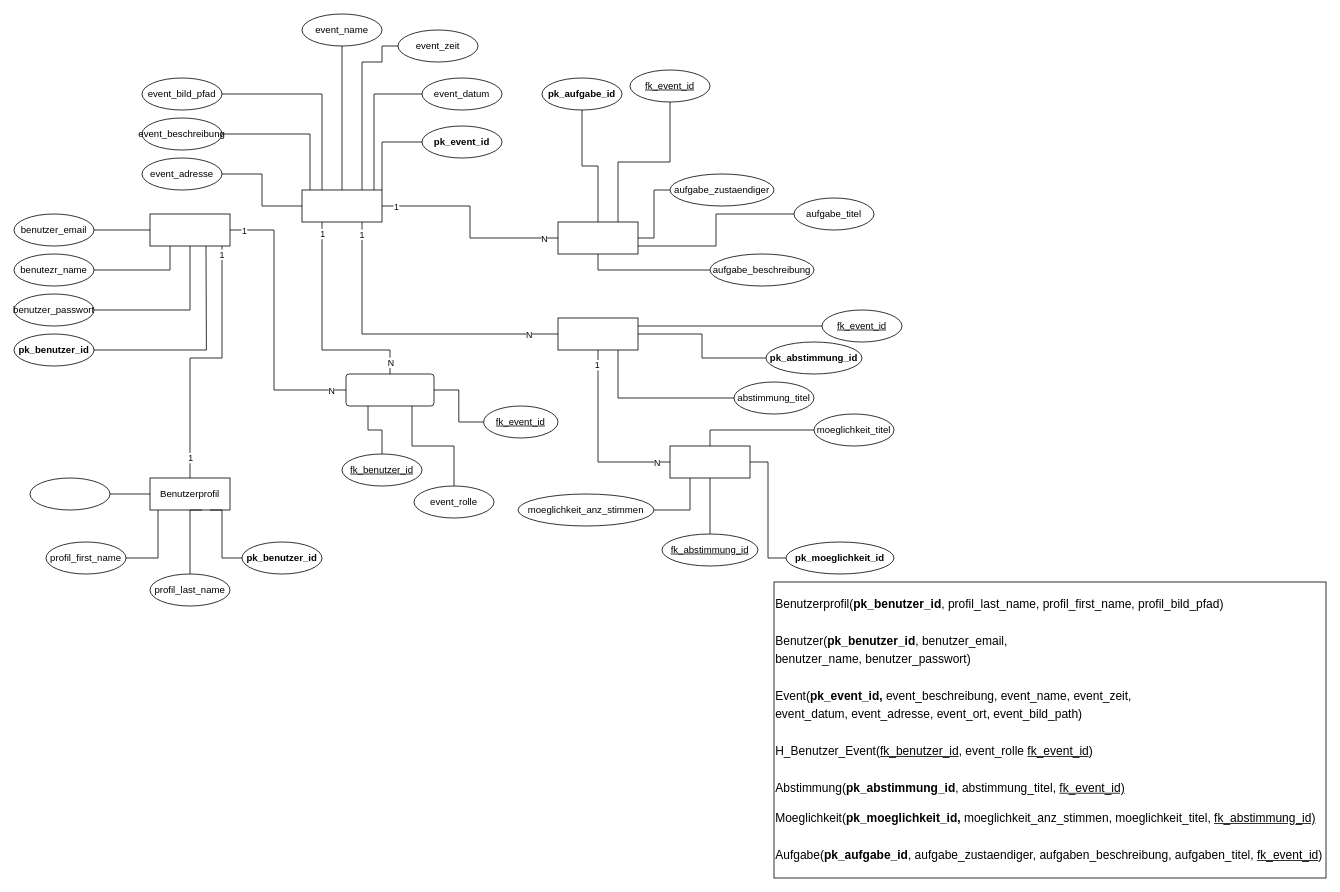
The diagram is 1340 pixels wide and 892 high, and some of its shapes have lost their labels. The centre of each missing label's shape, as x and y in pixels:
"Abstimmung" goes at point (597, 333).
"Aufgabe" goes at point (597, 237).
"Benutzer" goes at point (189, 229).
"Event" goes at point (341, 205).
"H_Benutzer_Event" goes at point (389, 389).
"Moeglichkeit" goes at point (709, 461).
"profil_bild_pfad" goes at point (69, 493).
